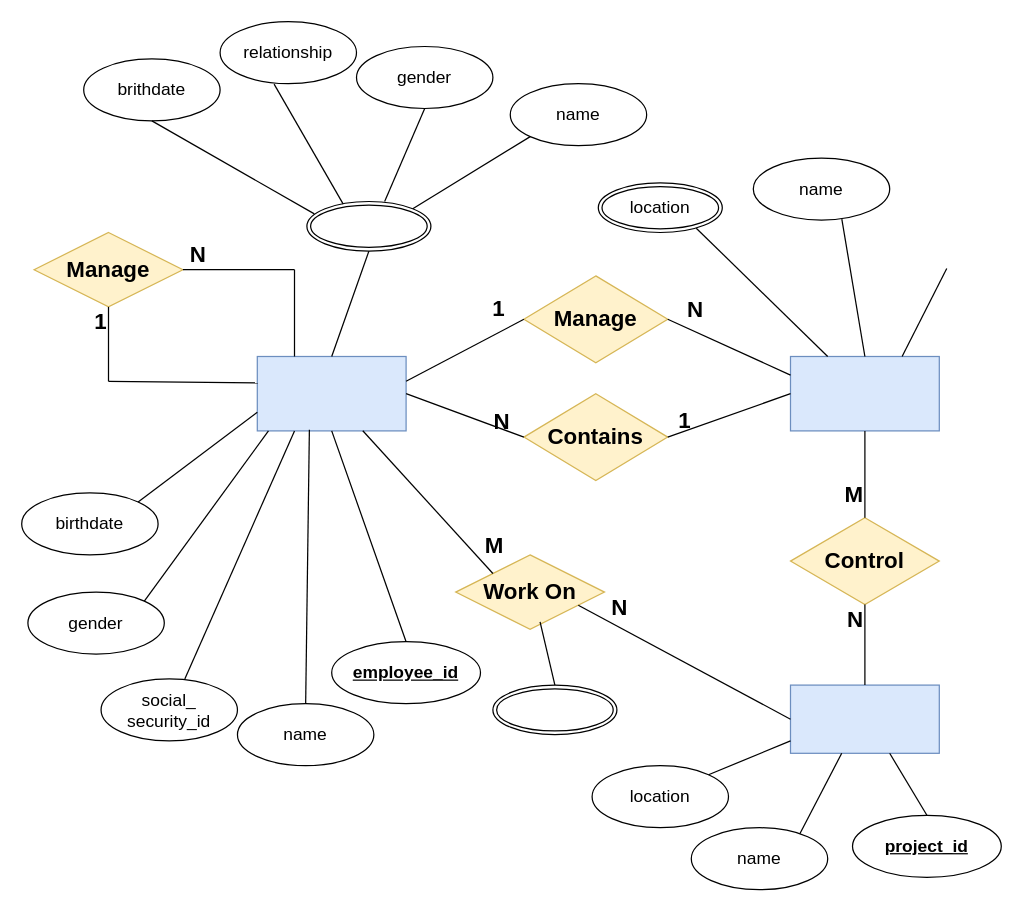
Some shapes in this 1023 by 911 pixel diagram are drawn without their labels. Each missing label, with the centre of its shape:
Department: the point at 864,393
dependents: the point at 368,225
Employee: the point at 331,393
Project: the point at 864,718
working hours: the point at 554,709
